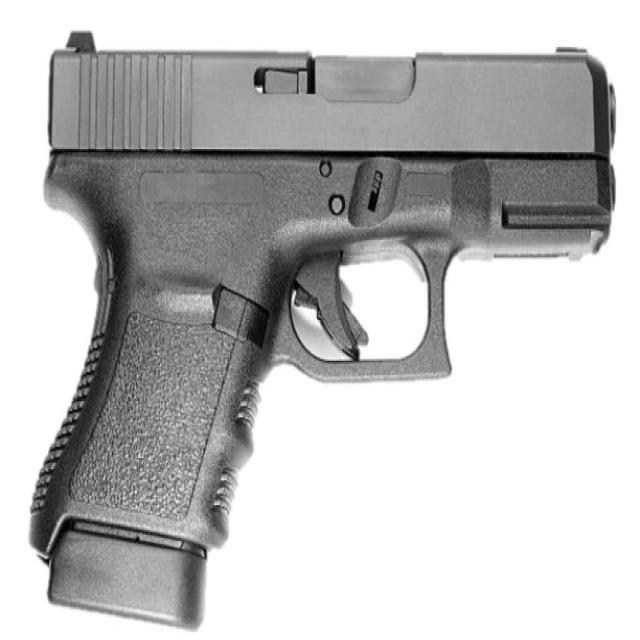pistol: (22, 24, 640, 640)
